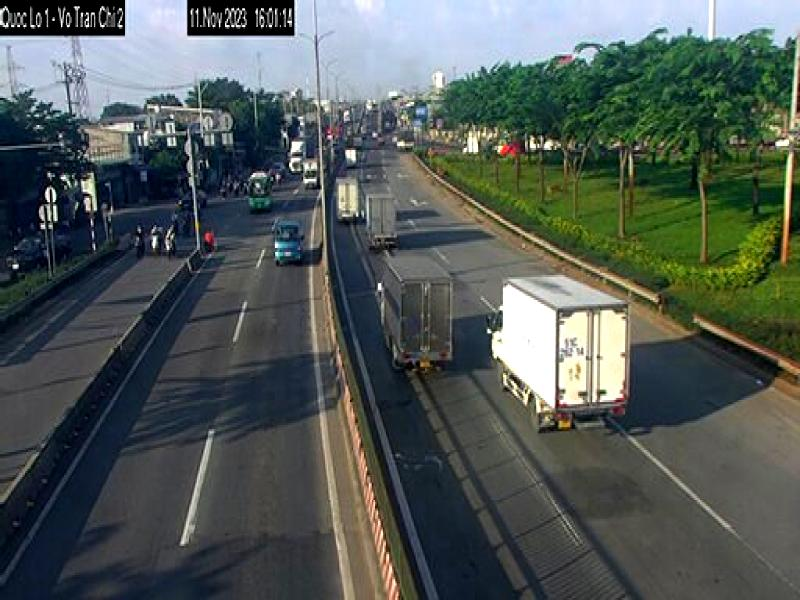truck: (487, 276, 632, 437), (370, 252, 456, 372), (364, 188, 399, 255), (335, 172, 360, 221)
